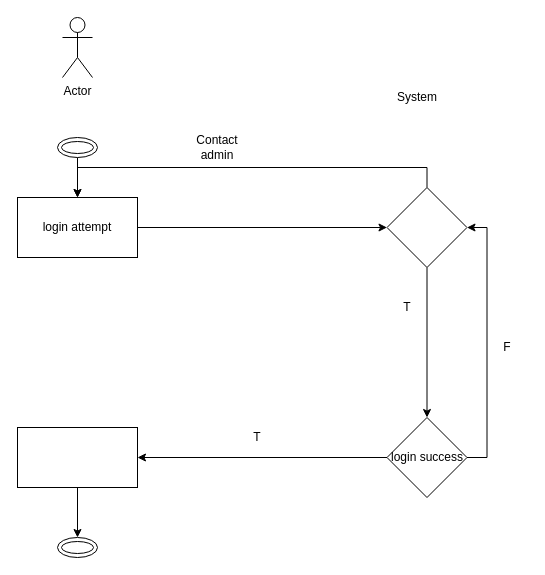
The diagram is 545 pixels wide and 575 high, and some of its shapes have lost their labels. The shapes that lost their labels are listed below. From the top down, each one's centre as x and y in pixels, then its label:
At point 426,227: "System working".
At point 77,457: "Continue using the system".
